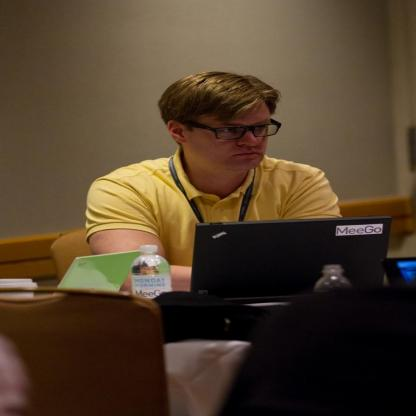board: (189, 216, 390, 306), (56, 250, 141, 294), (133, 244, 173, 302)
